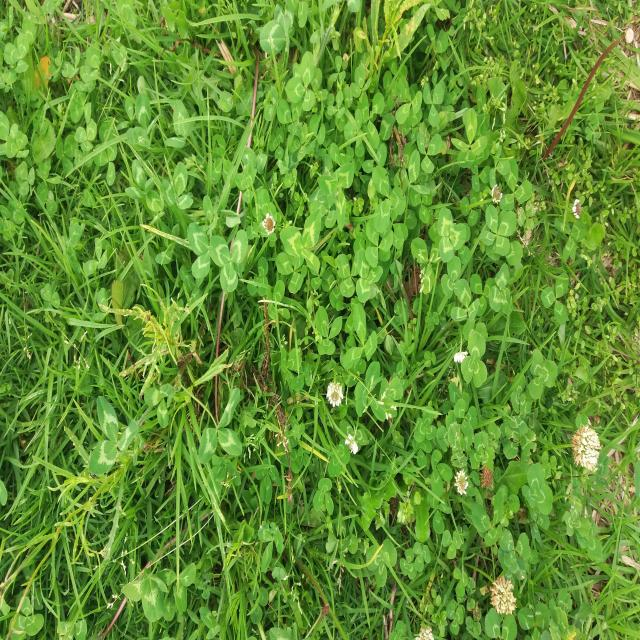Four Leaf Clover: (479, 204, 517, 257)
